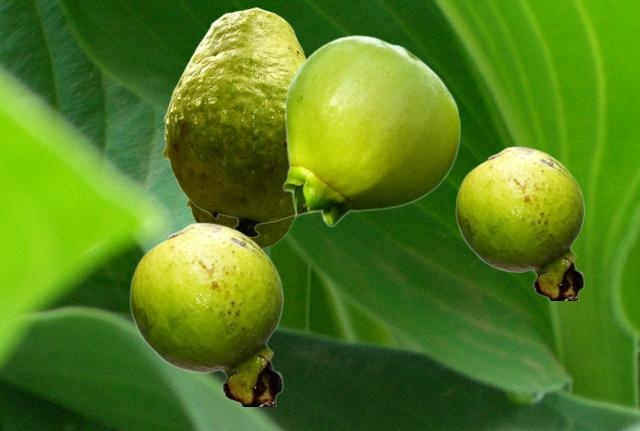guava: (282, 35, 460, 226), (162, 7, 306, 237), (129, 222, 283, 405), (455, 146, 584, 299), (186, 199, 295, 249)
